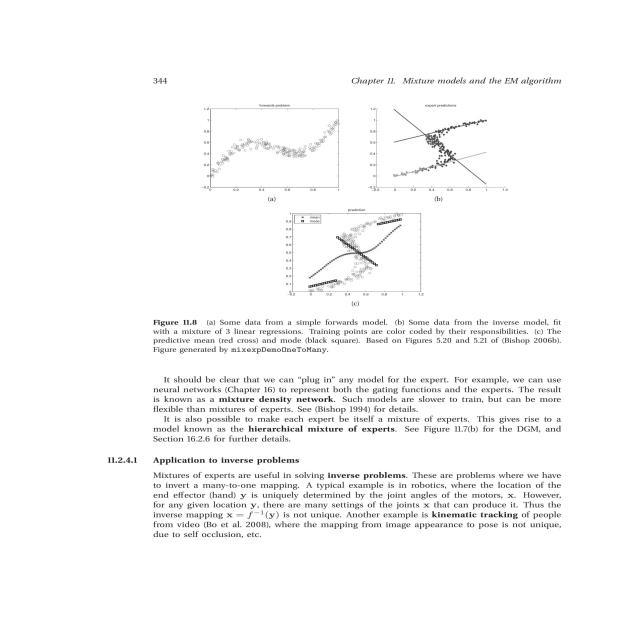diagram: (128, 100, 621, 364)
